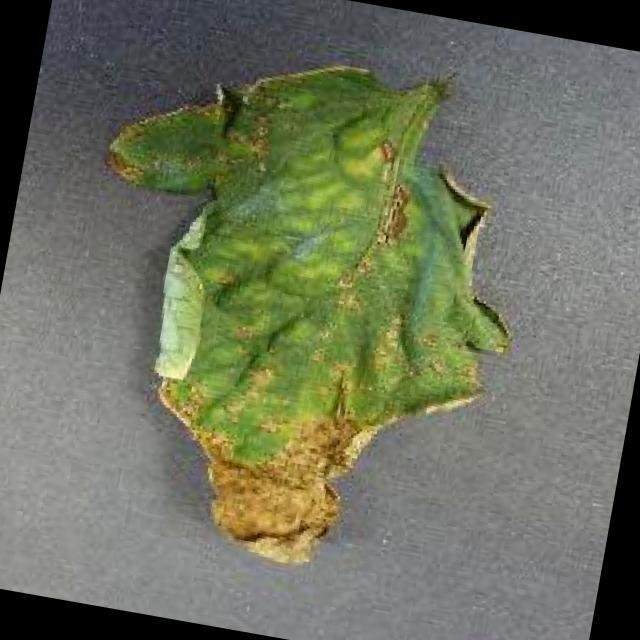Tomato bacterial spot leaf: (36, 22, 556, 606)
